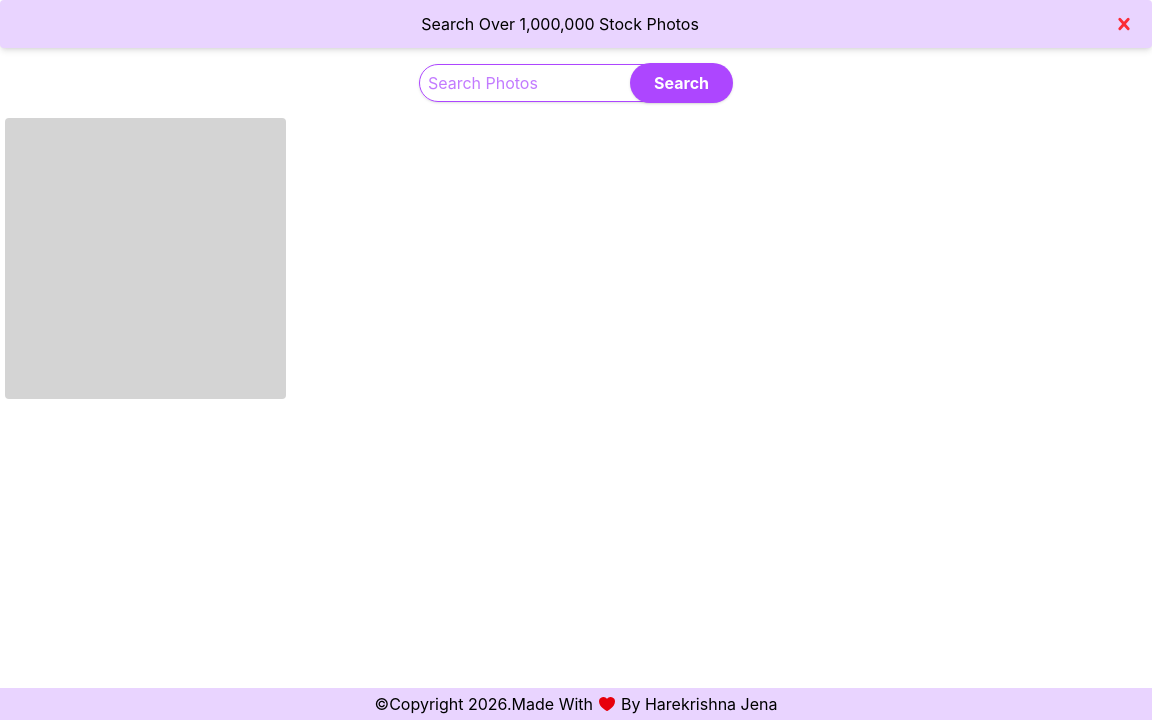
photo search › shows the empty-results message when a search has no matches
Type "no matches" into the search field at (572, 83), box [419, 64, 726, 102]
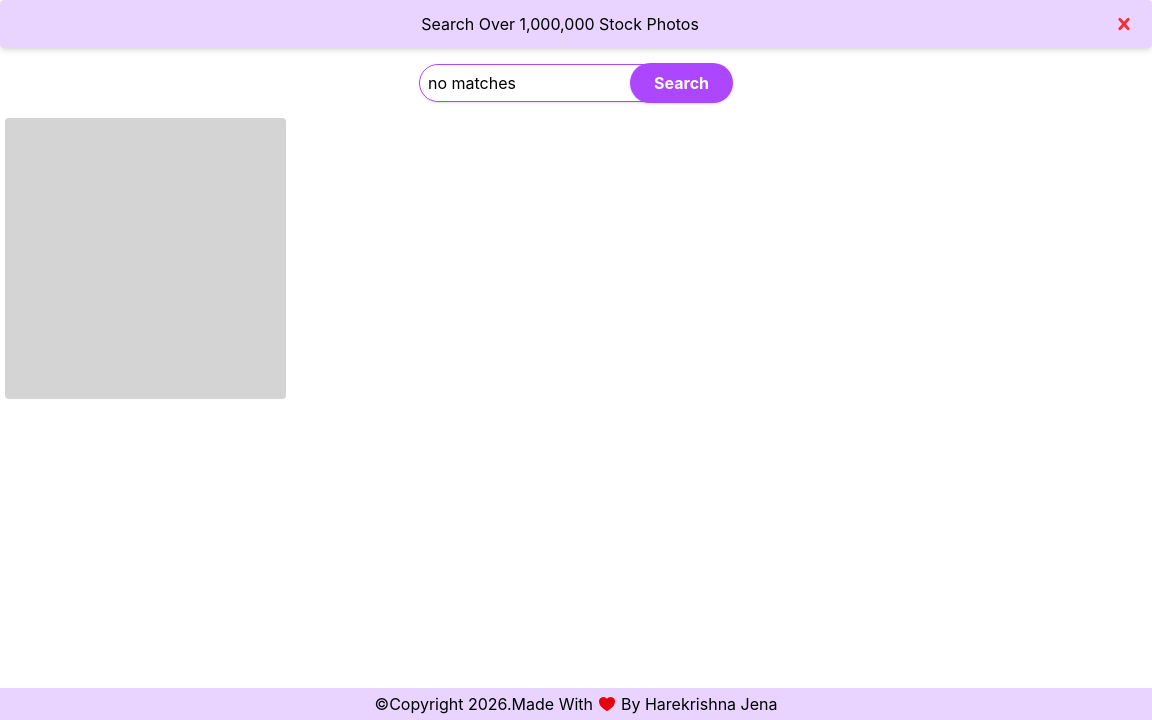
Click the button "Search" at (682, 83), box [630, 63, 733, 103]
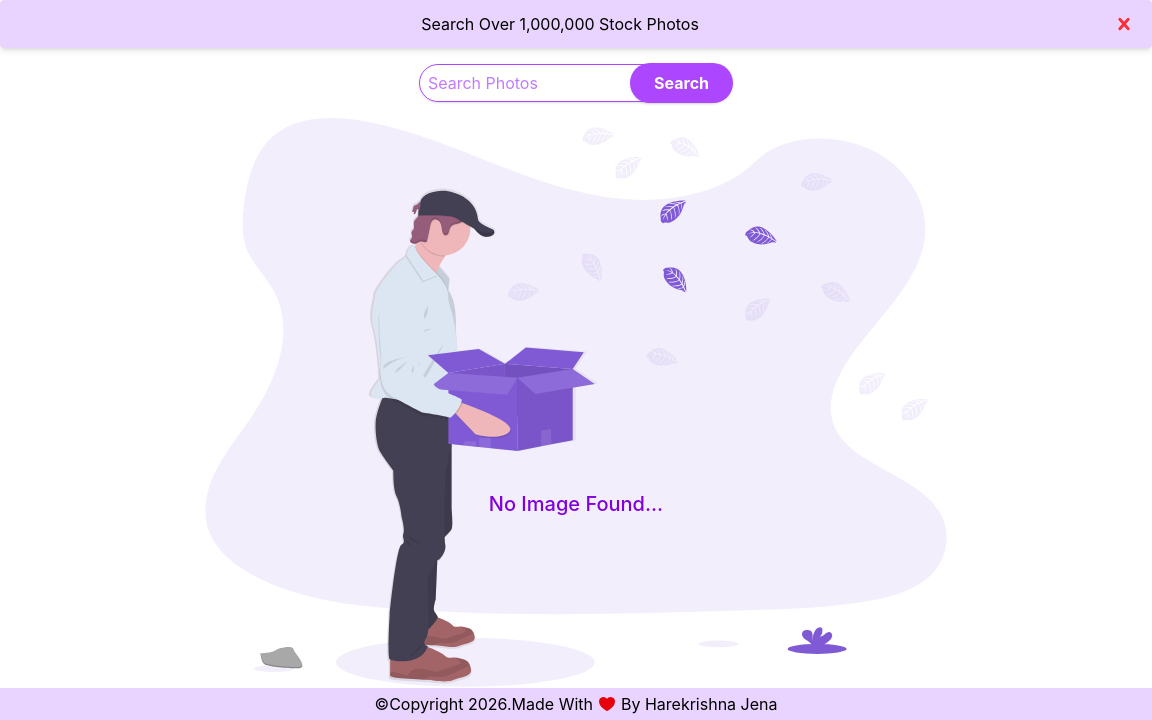
Result: the heading "No Image Found..." is shown at [489, 490, 663, 518]
